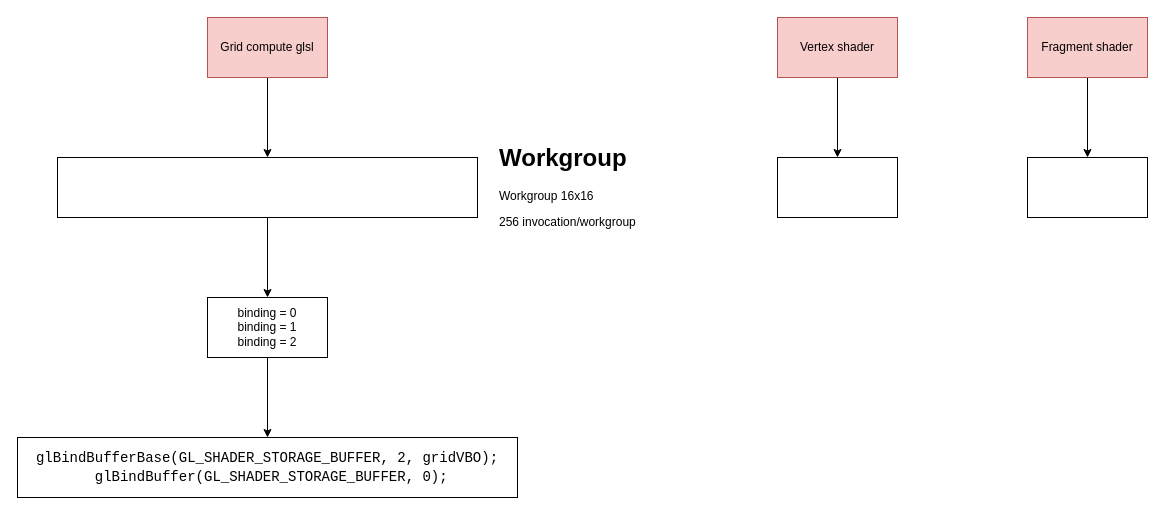
The diagram is 1165 pixels wide and 515 high, and some of its shapes have lost their labels. Here are the shapes that lost their labels. From the top down, the centre of each, then its label:
At pixel 267 187: "layout(local_size_x = 16, local_size_y = 16) in;".
At pixel 837 187: "layout(location = 0) in vec3 aPos;".
At pixel 1087 187: "Quyết định màu pixel".
